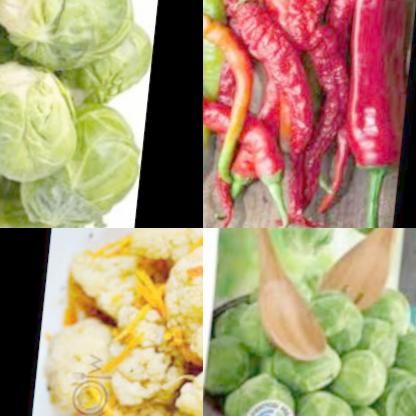brus capusta: (216, 279, 416, 416), (5, 90, 152, 228), (0, 64, 94, 168), (0, 0, 149, 61), (99, 24, 158, 99), (263, 228, 346, 254)
cayliflower: (102, 289, 198, 416), (37, 318, 125, 416), (64, 241, 154, 322), (154, 241, 203, 366), (130, 228, 203, 264)
hot pepper: (203, 11, 315, 213), (206, 0, 325, 185), (278, 0, 365, 217), (203, 3, 281, 181), (339, 0, 416, 164), (203, 0, 247, 199)
